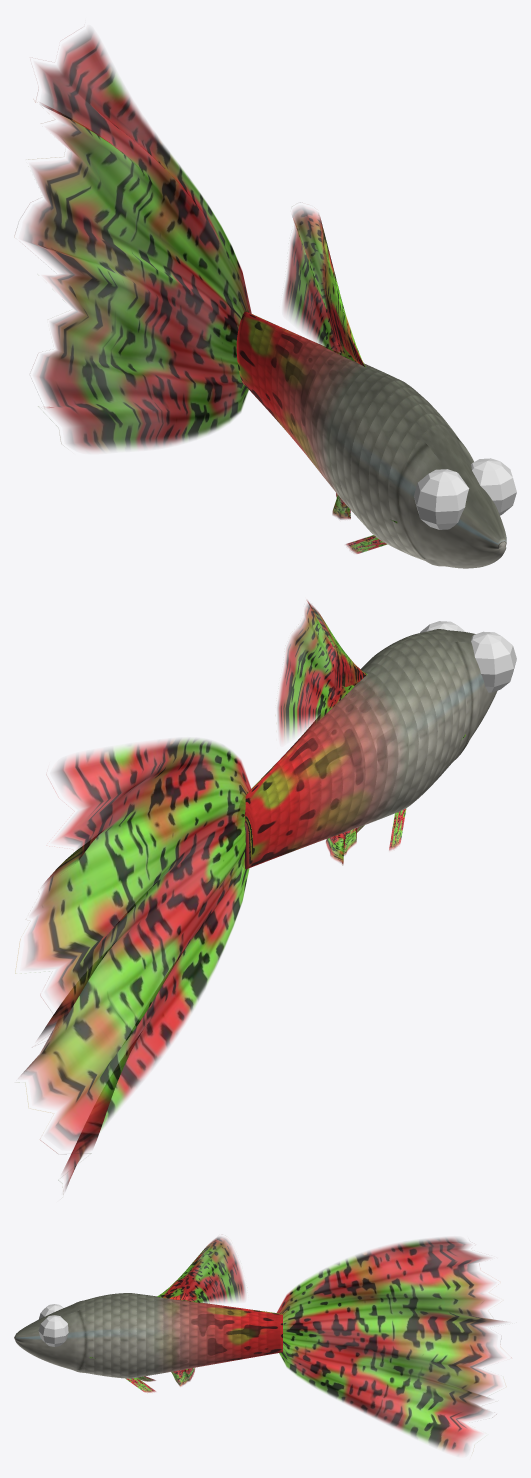
The model's file is guppy-6.glb.
3 views of the same model, one above another, from view 1: azimuth 30°, elevation 25°; view 2: azimuth 150°, elevation 25°; view 3: azimuth 270°, elevation 25° (orthographic). The views are drawn at different scales.
Visible parts, largest first — view 1: Fins, Body, EyeL, EyeR; view 2: Fins, Body, EyeL; view 3: Fins, Body, EyeR.
Part boxes in pixels (x1=…): Fins: x1=15, y1=31, x2=387, y2=553; Body: x1=236, y1=311, x2=506, y2=568; EyeL: x1=414, y1=469, x2=469, y2=529; EyeR: x1=471, y1=458, x2=516, y2=515; Fins: x1=15, y1=600, x2=406, y2=1194; Body: x1=243, y1=629, x2=497, y2=869; EyeL: x1=471, y1=631, x2=516, y2=692; Fins: x1=125, y1=1237, x2=504, y2=1453; Body: x1=14, y1=1293, x2=282, y2=1378; EyeR: x1=38, y1=1315, x2=68, y2=1346.
Bounding box in the file's own units: 0.0777 × 0.34 × 0.6704.
2 materials, 2 textured.
